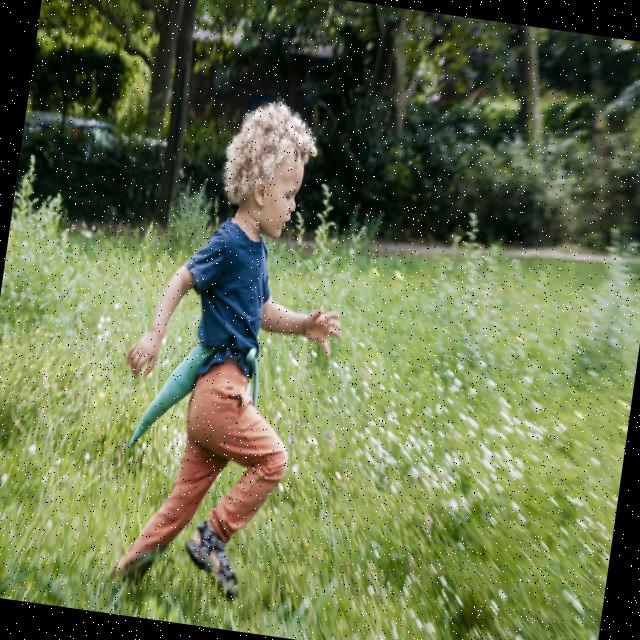Person: (96, 85, 370, 608)
